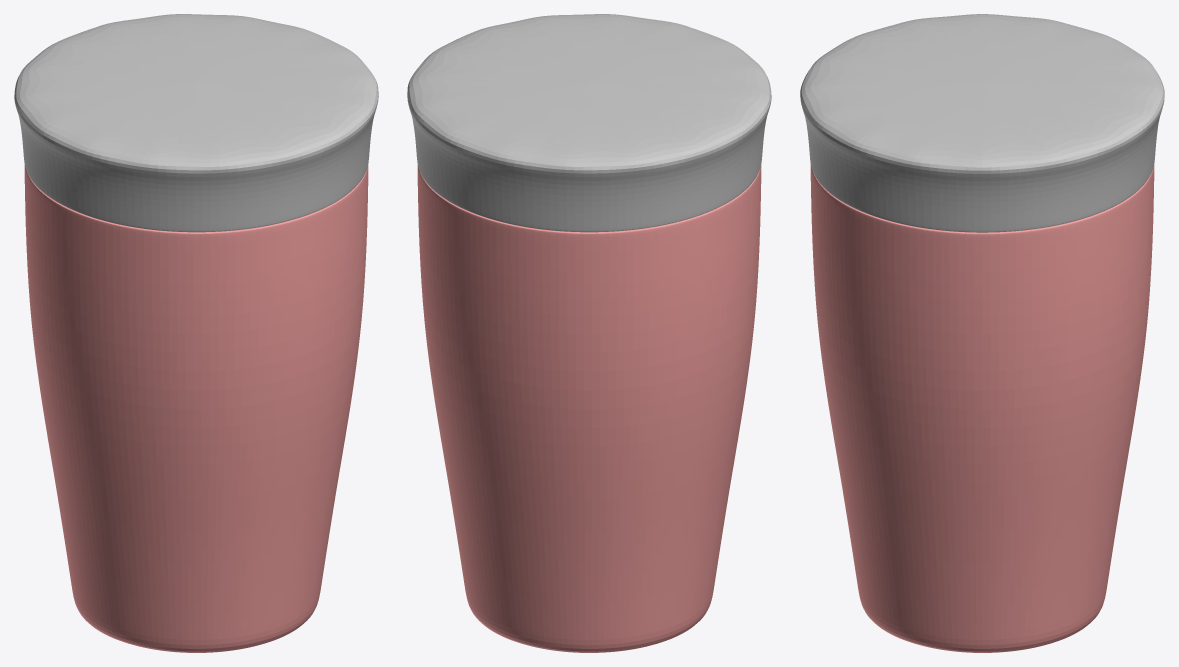
Rendered from shaker_body.fbx.
3 views of the same model, side by side, from view 1: azimuth 30°, elevation 25°; view 2: azimuth 150°, elevation 25°; view 3: azimuth 270°, elevation 25° (orthographic).
Parts seen in each view (by area): view 1: Body; view 2: Body; view 3: Body.
Boxes of the visible parts, x1,y1,x2,y2 form: Body: [14, 14, 378, 652]; Body: [407, 14, 771, 652]; Body: [800, 14, 1164, 652].
Bounding box in the file's own units: 0.1051 × 0.1692 × 0.1051.
